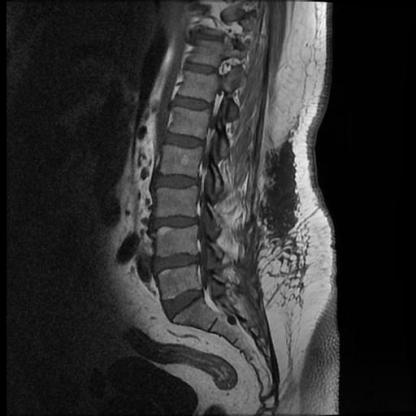Degenerative Disc Diseaserotation: (154, 252, 203, 275)
Disc Bulgerotation: (164, 291, 207, 317), (154, 252, 203, 274), (152, 172, 202, 193), (159, 131, 205, 151), (152, 215, 201, 233)
